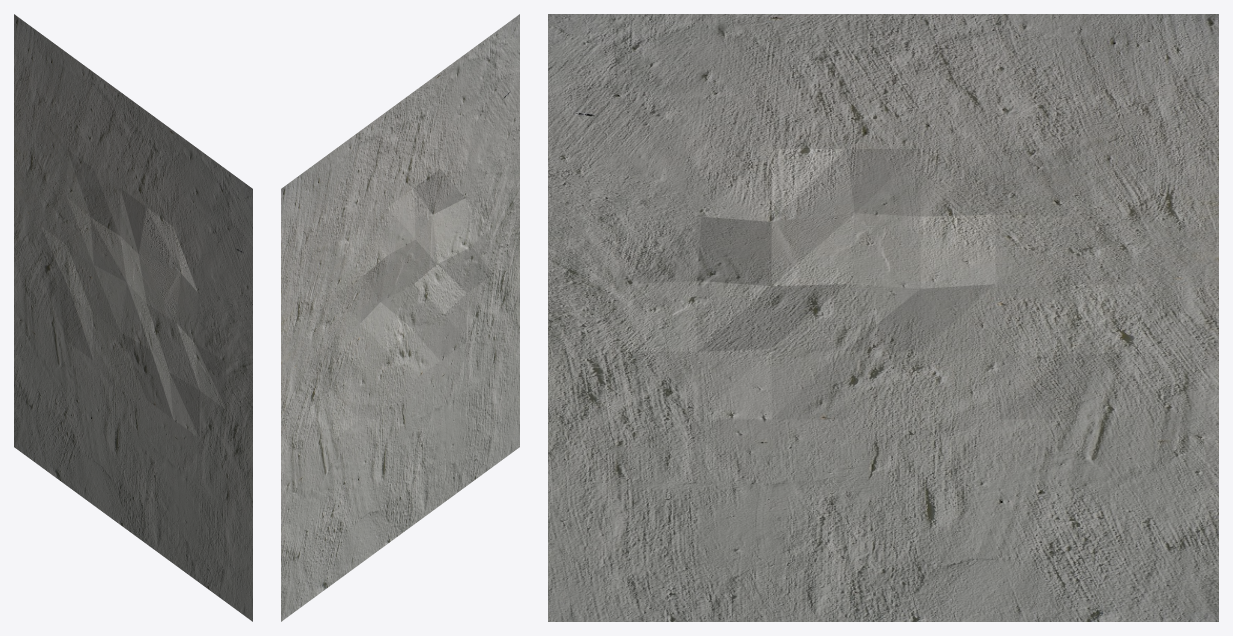
File: wall1.obj
3 views of the same model, side by side, from view 1: azimuth 30°, elevation 25°; view 2: azimuth 150°, elevation 25°; view 3: azimuth 270°, elevation 25° (orthographic). The views are drawn at different scales.
Parts seen in each view (by area): view 1: Grid.001; view 2: Grid.001; view 3: Grid.001.
Boxes of the visible parts, bbox=[...] form: Grid.001: bbox=[14, 14, 252, 621]; Grid.001: bbox=[281, 14, 519, 621]; Grid.001: bbox=[548, 14, 1218, 621].
Size of the model in its own units: 0.6809 by 22.3 by 22.3.
